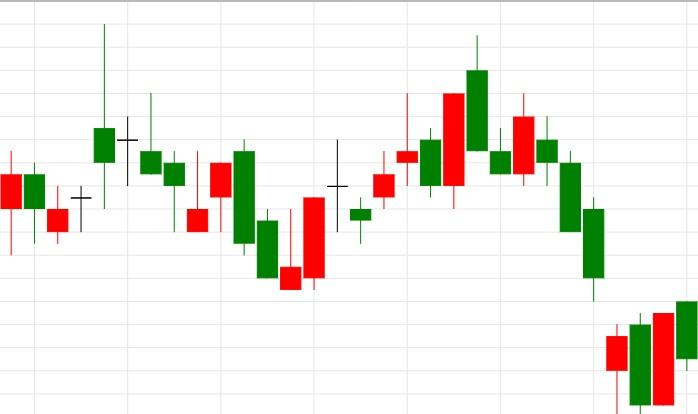inverse_hammer_rise: (92, 24, 302, 292)
